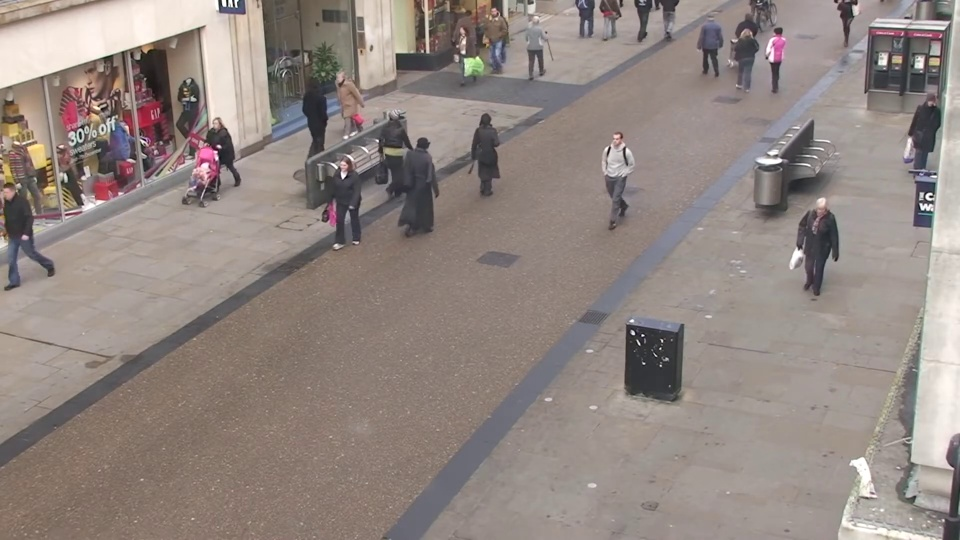pedestrian: (793, 197, 837, 316), (901, 94, 946, 188), (322, 156, 360, 261), (194, 114, 231, 207), (413, 127, 447, 226), (596, 128, 628, 228), (387, 101, 420, 192), (473, 108, 505, 201), (309, 77, 340, 161), (323, 71, 353, 154), (762, 22, 790, 94), (729, 27, 756, 99), (735, 10, 761, 78), (449, 23, 474, 93), (697, 8, 721, 75), (458, 5, 482, 70), (528, 12, 551, 79), (482, 6, 505, 71)
